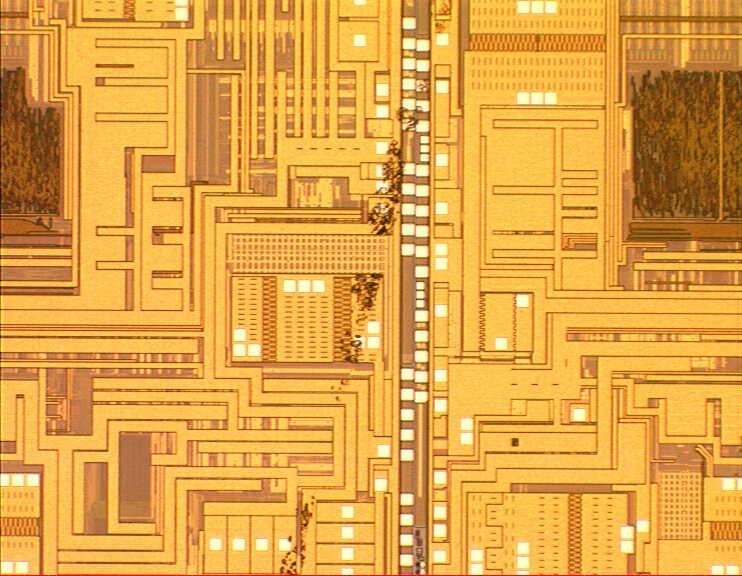SCRATCH: (263, 1, 462, 576)
